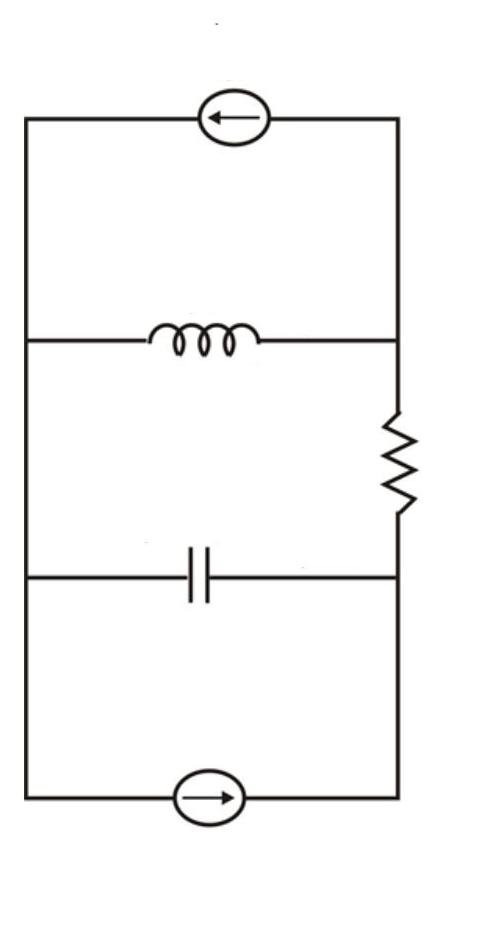resistor: (349, 384, 426, 525)
